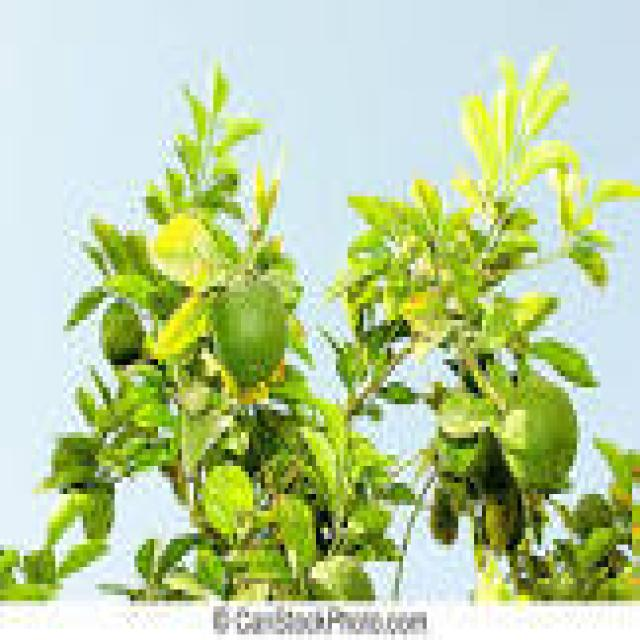orange: (502, 371, 573, 488), (213, 281, 284, 382)
